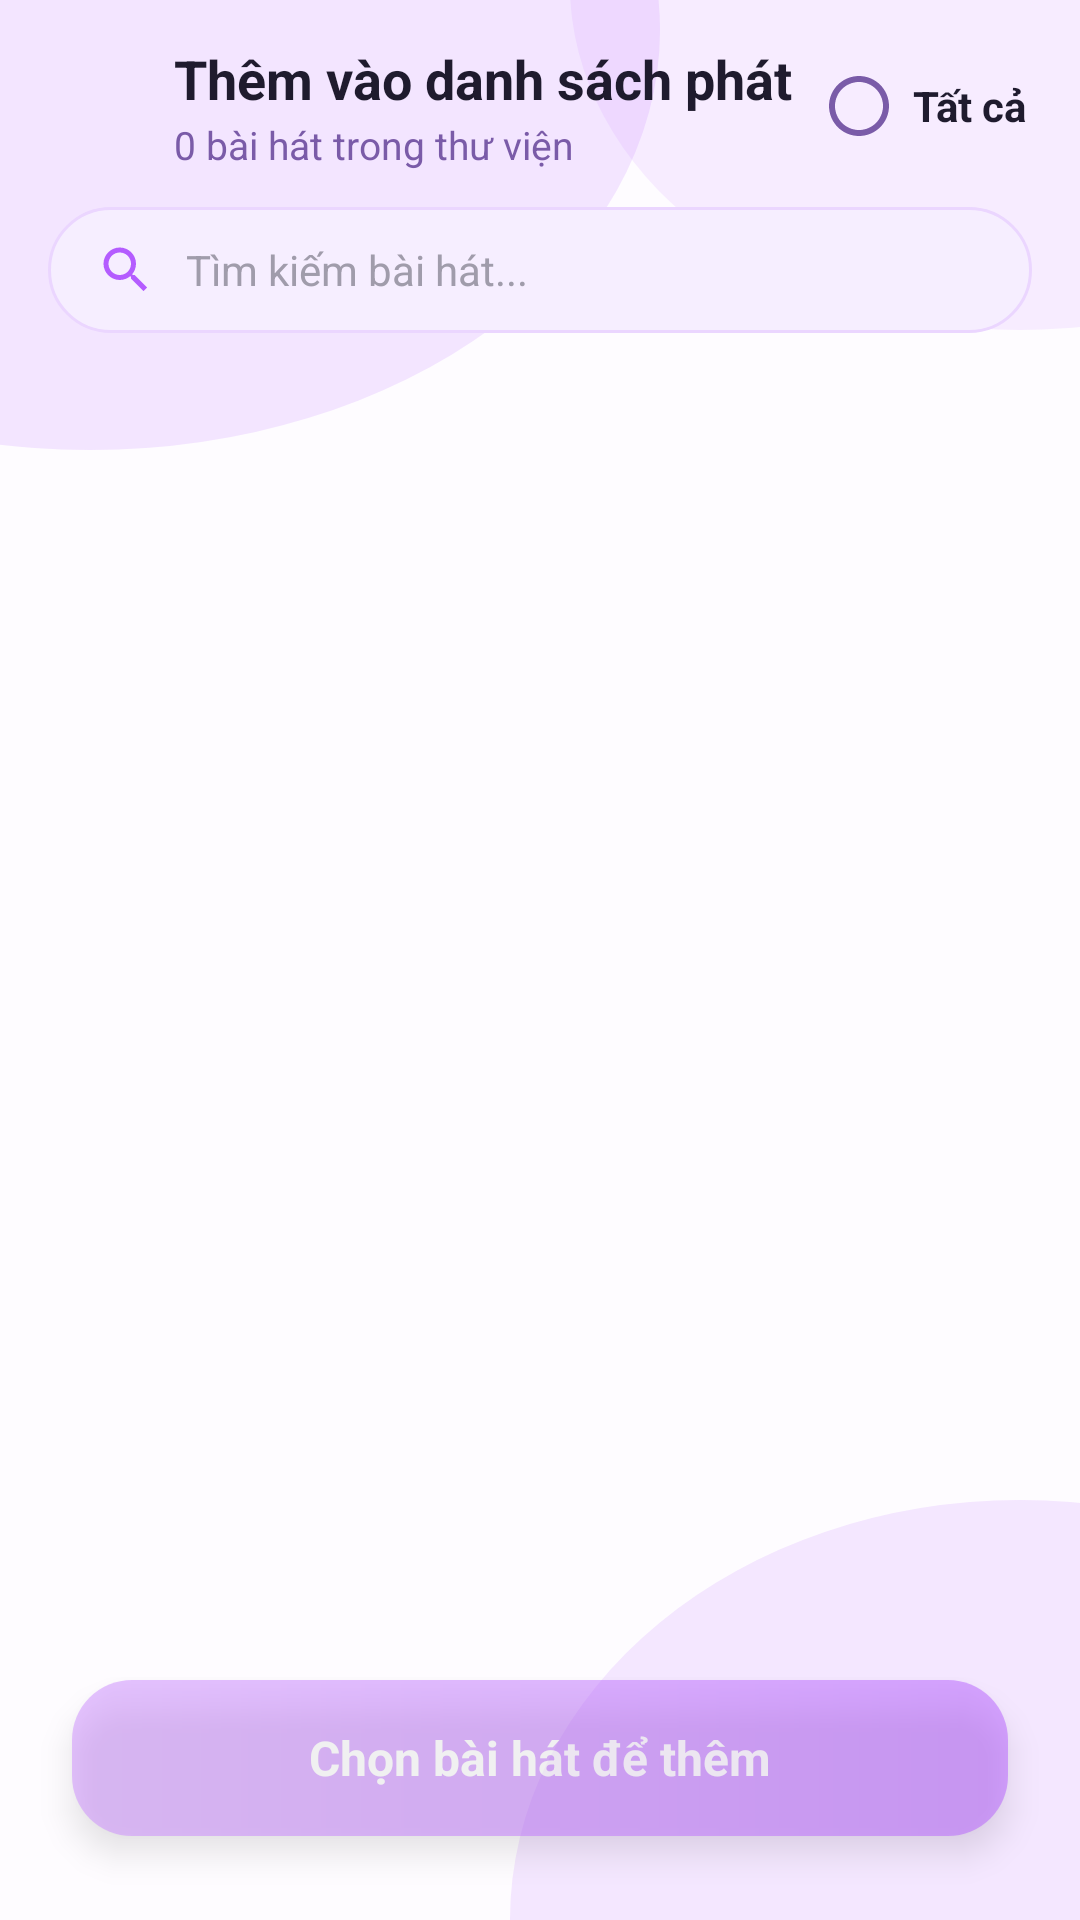

Where to tap for icons on this 1080×1920 app screen, as [x,y]:
search: [125,269]
